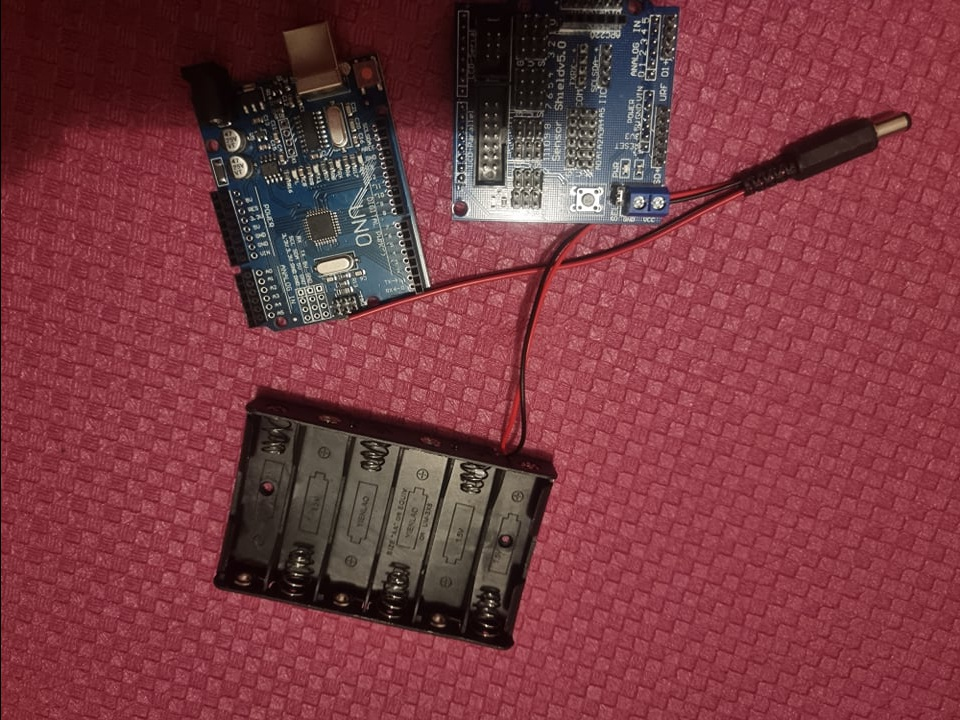5V EXPANSION: (447, 3, 681, 222)
BATTERY BOX: (214, 389, 555, 655)
UNO R3: (184, 26, 431, 328)
